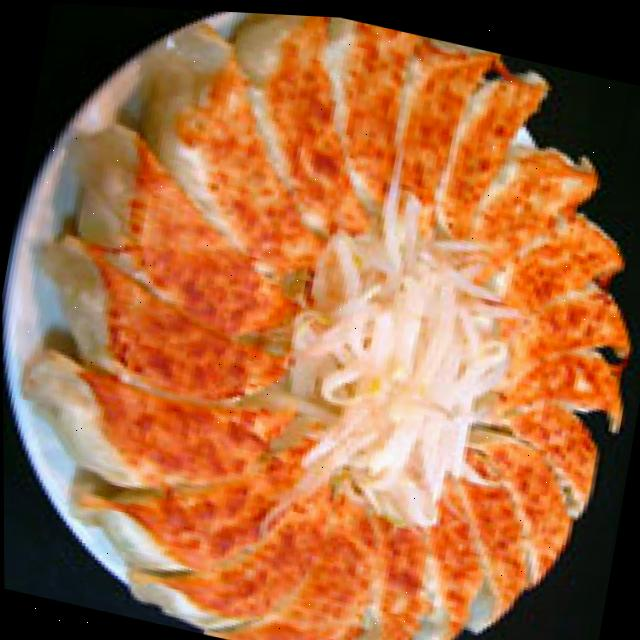带馅早点: (3, 0, 640, 640)
